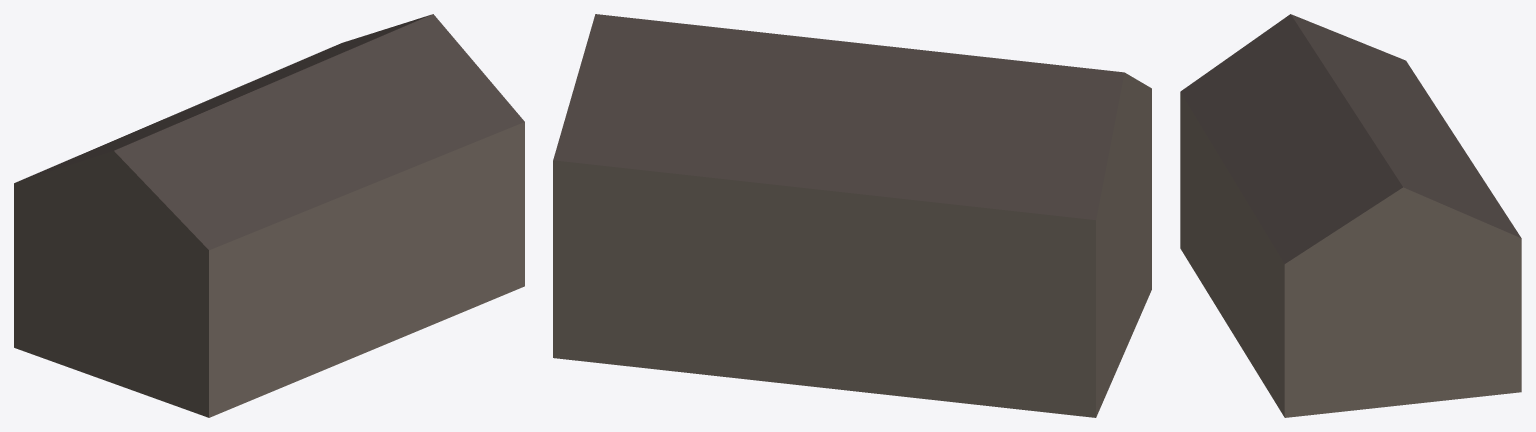
3 views of the same model, side by side, from view 1: azimuth 30°, elevation 25°; view 2: azimuth 150°, elevation 25°; view 3: azimuth 270°, elevation 25° (orthographic). The views are drawn at different scales.
Visible parts, largest first — view 1: HP-w757497631; view 2: HP-w757497631; view 3: HP-w757497631.
Part boxes in pixels (x1,y1,x2,y2): HP-w757497631: (14, 14, 524, 417); HP-w757497631: (553, 14, 1151, 417); HP-w757497631: (1180, 14, 1521, 417).
Size of the model in its own units: 25.55 by 12.74 by 18.11.
